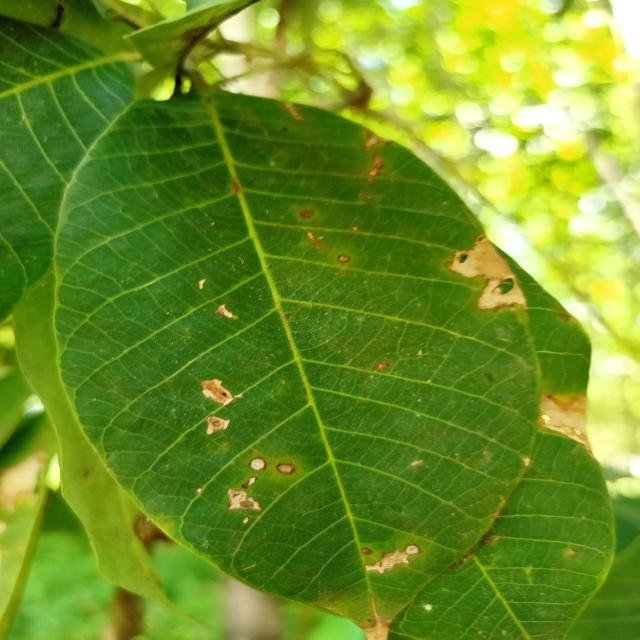Colletotrichum: (248, 456, 267, 471), (276, 463, 296, 474), (299, 209, 314, 218), (337, 254, 350, 263), (360, 547, 373, 554)
Leaf-Blight: (449, 233, 526, 310), (538, 393, 594, 460), (359, 597, 395, 640), (365, 546, 419, 574), (200, 378, 232, 406), (226, 487, 262, 511), (205, 414, 231, 434)
